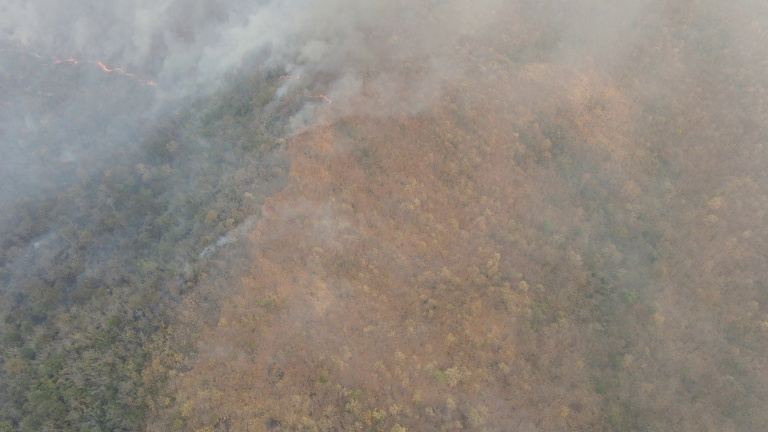fire: (26, 50, 160, 89)
smoke: (17, 1, 297, 172), (265, 16, 425, 107), (277, 79, 385, 139), (199, 222, 255, 261)
